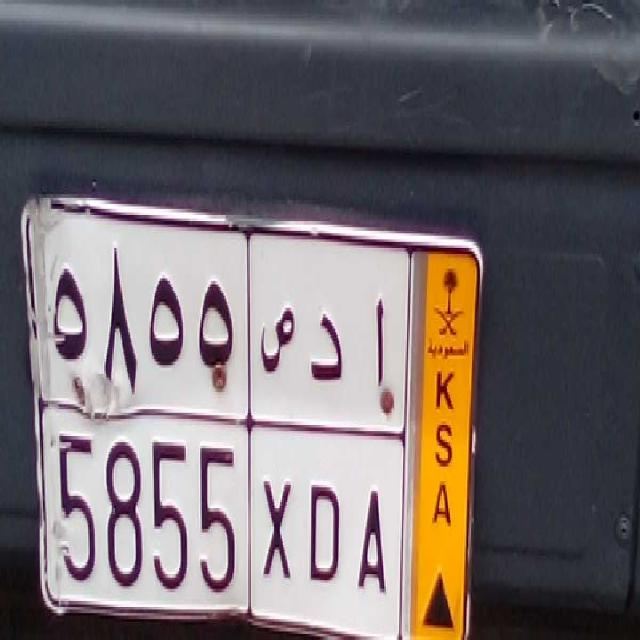license_plate: (33, 397, 398, 637)
